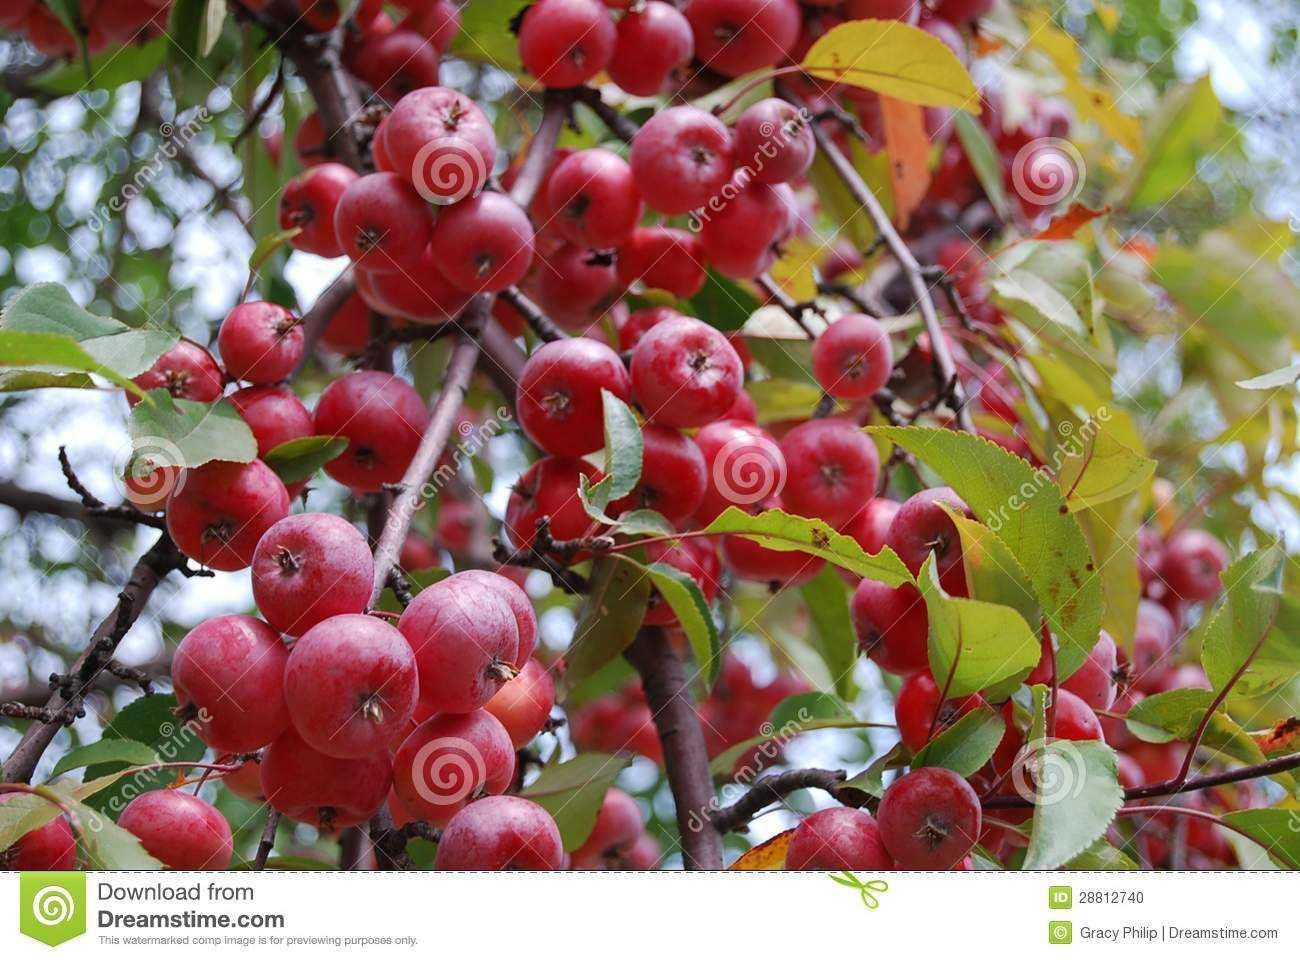apple: (285, 615, 419, 751), (247, 512, 374, 641), (170, 616, 290, 748), (401, 577, 521, 709), (305, 369, 427, 498), (165, 457, 291, 575), (383, 88, 492, 205), (519, 342, 628, 457), (631, 320, 741, 433), (876, 766, 983, 870), (889, 490, 989, 600), (604, 427, 706, 527), (775, 418, 877, 518), (432, 794, 564, 870), (433, 193, 533, 293), (114, 788, 234, 870), (340, 166, 431, 274), (852, 576, 956, 669), (225, 389, 317, 487), (215, 299, 307, 386), (785, 804, 888, 870)
